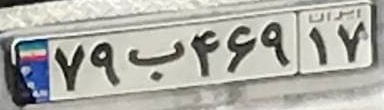character: (124, 37, 187, 85), (51, 42, 89, 97), (222, 23, 259, 77), (87, 38, 122, 92), (188, 26, 222, 80), (259, 19, 295, 69), (335, 18, 369, 65), (304, 25, 332, 70)
